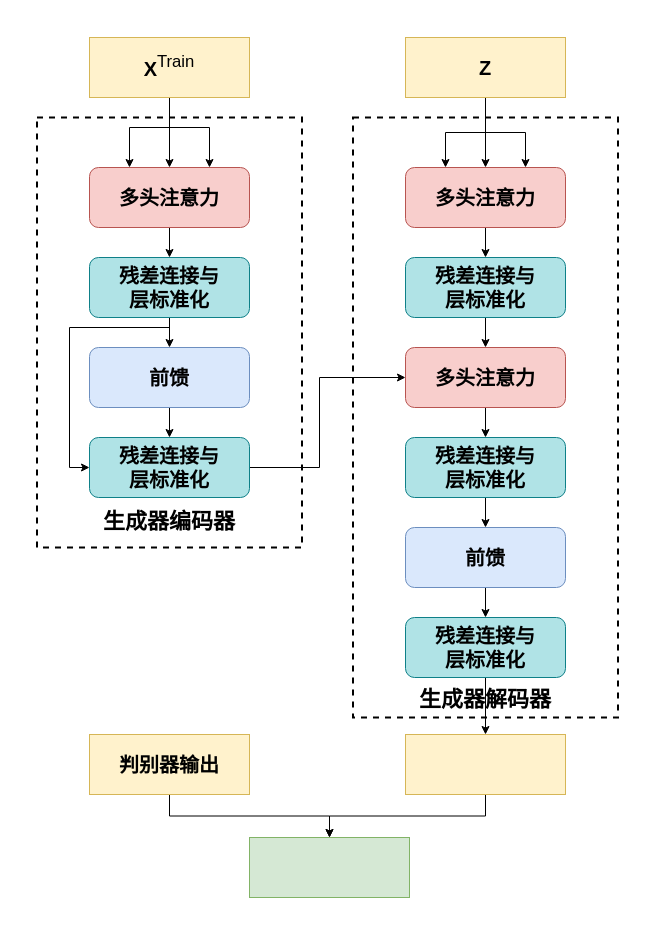
The diagram is 654 pixels wide and 934 high, and some of its shapes have lost their labels. Each missing label, with the centre of its shape:
G Loss: point (329, 867)
生成样本: point (485, 764)
